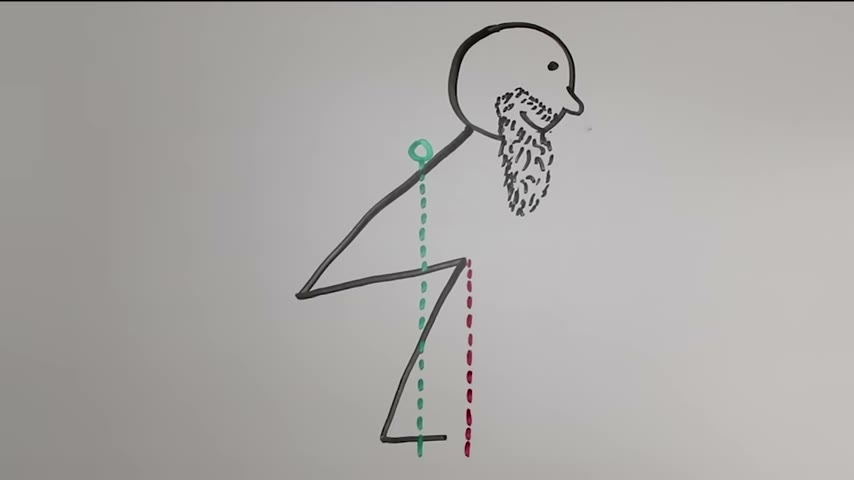barbell_plate_side: (287, 21, 380, 448), (532, 18, 590, 217)
